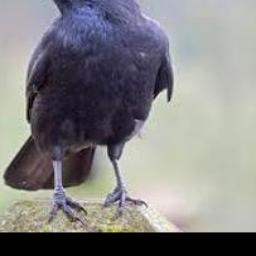Crow: (1, 0, 173, 226)
